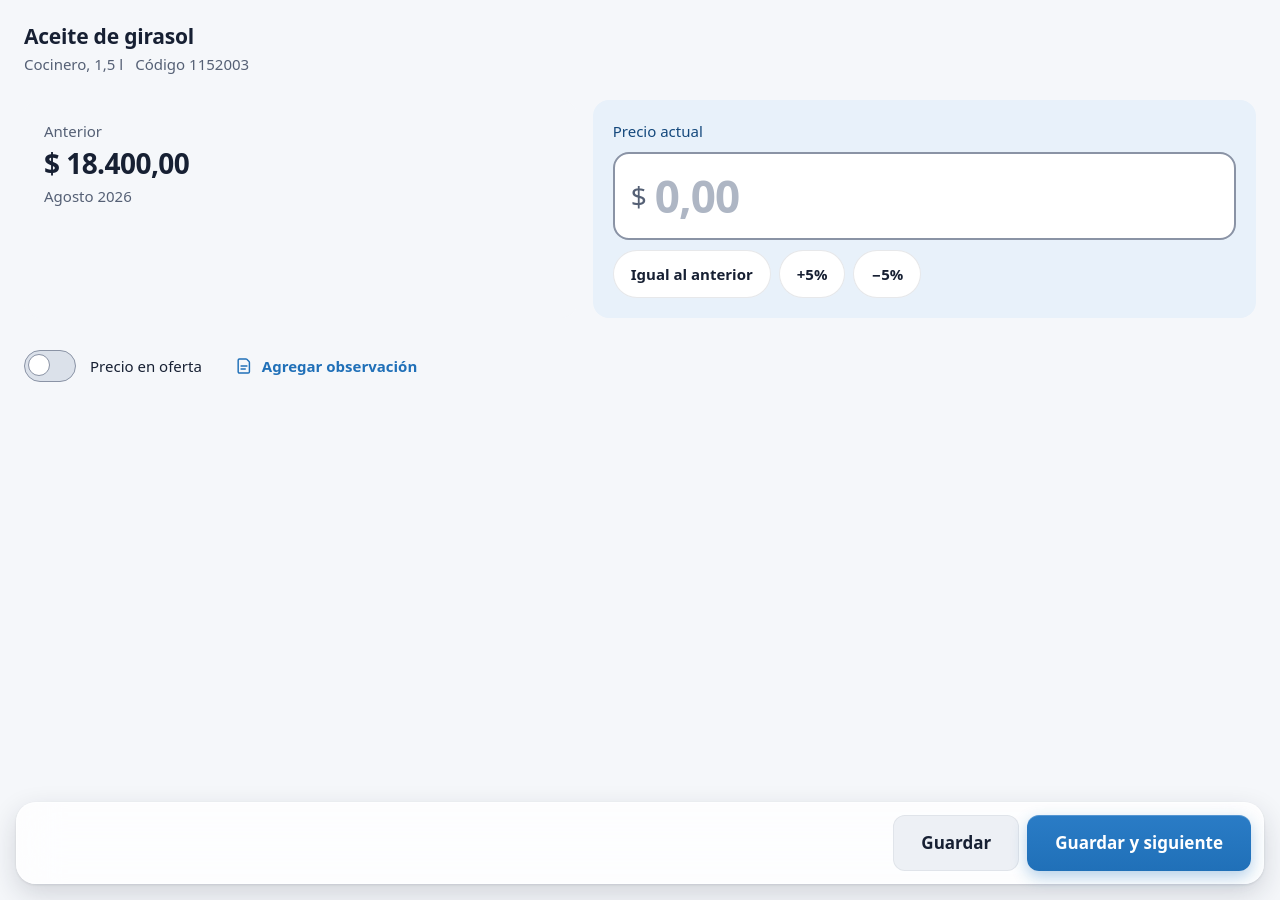
PriceEditor › saves a valid price with the parsed value
This screenshot has width=1280, height=900.
Type "1.234,5" into the field labelled "Precio actual" at (936, 196), box [655,170,1218,223]
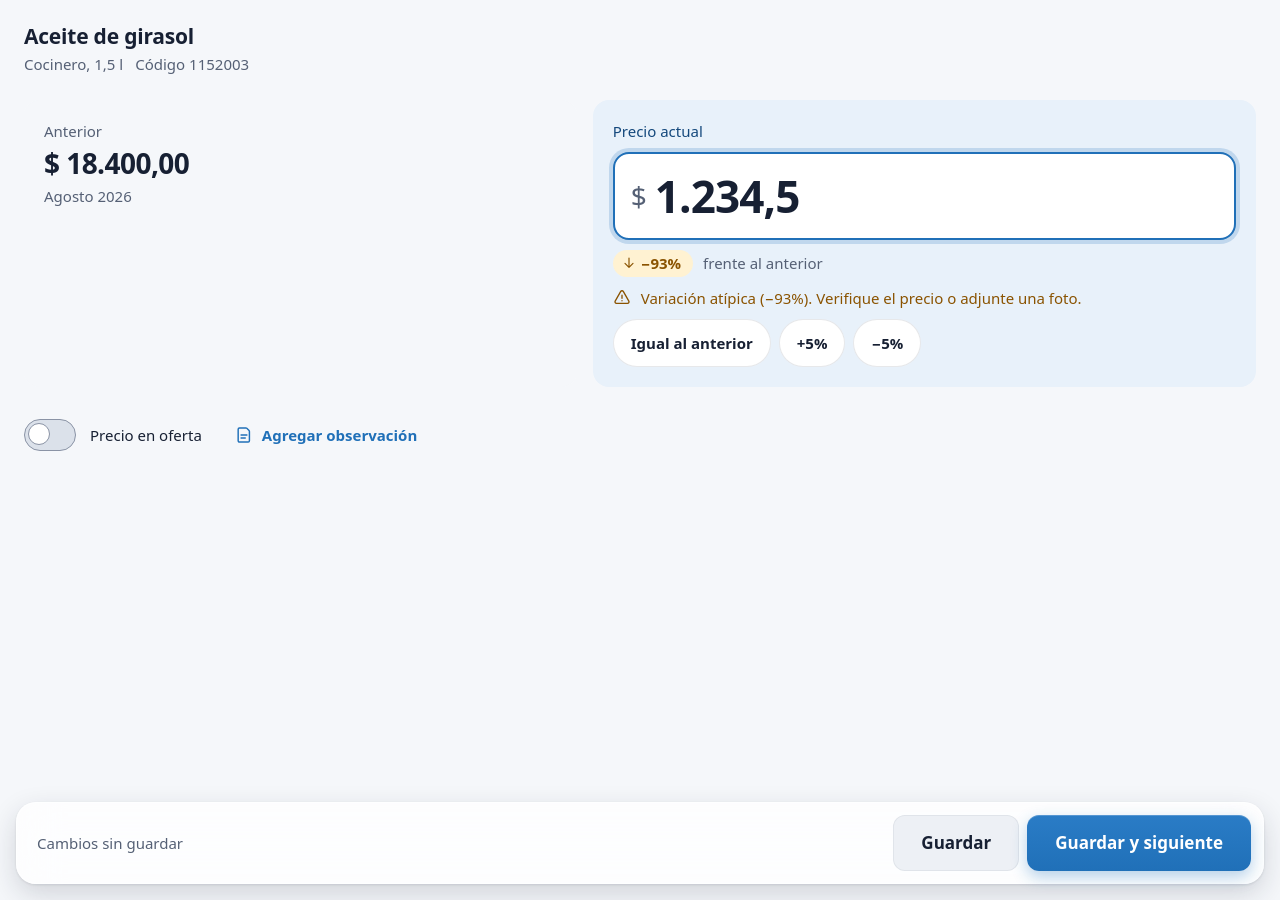
Click the button "Guardar" at (956, 843), box [893,815,1019,871]
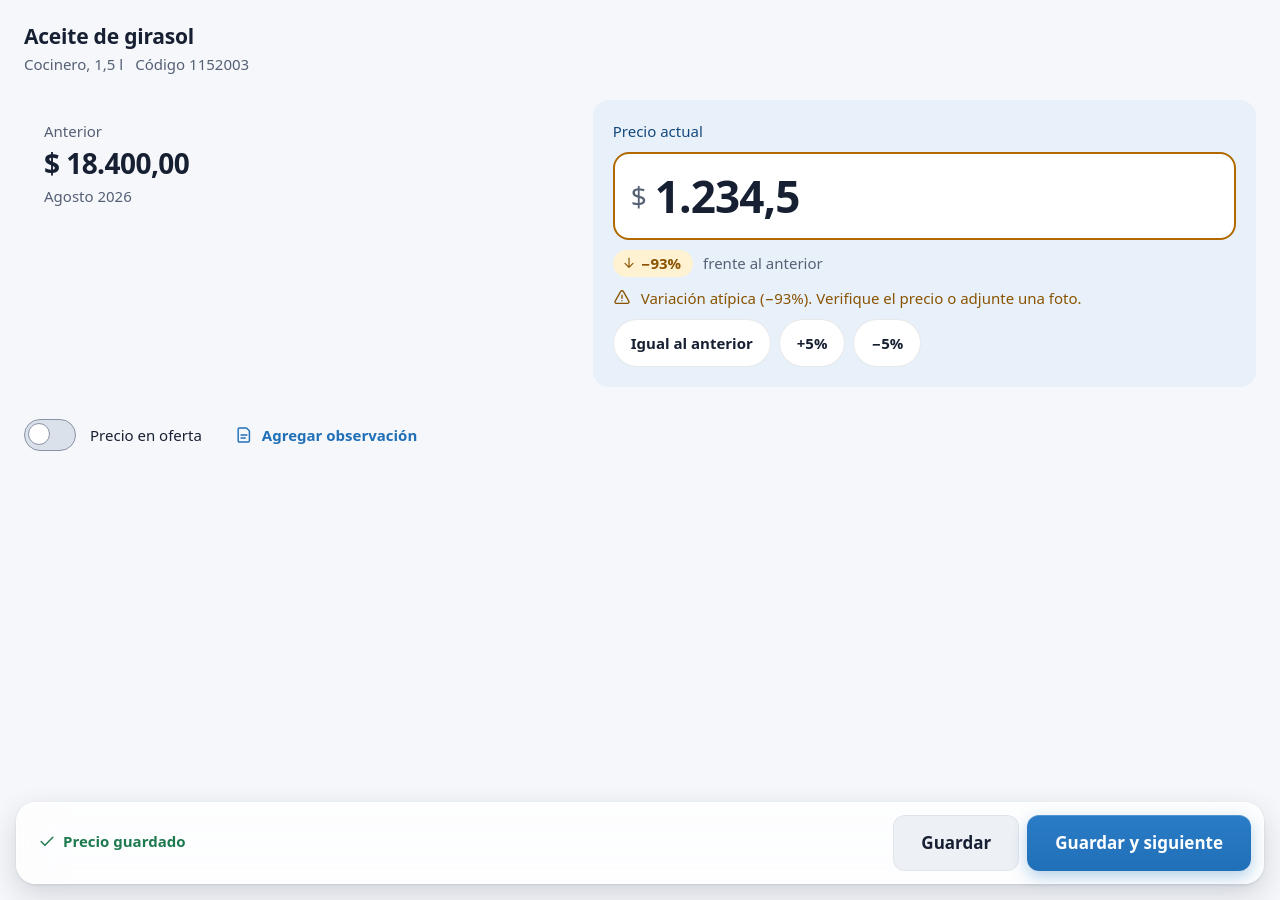
Now the text "Precio guardado" is shown, box [37,830,186,852]
